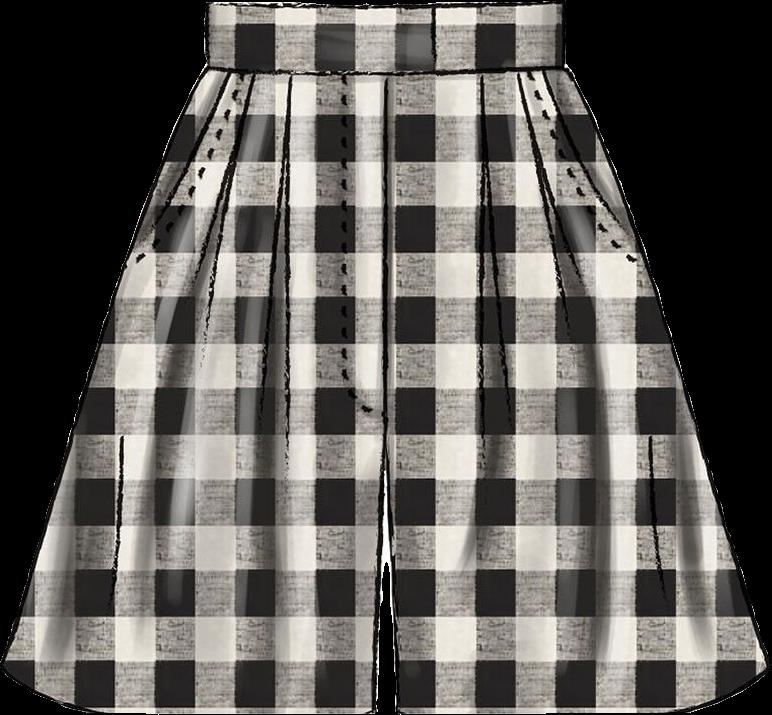Pantleg: (0, 1, 387, 714), (385, 0, 767, 714)
Waistline: (205, 61, 568, 78), (204, 0, 563, 13)
